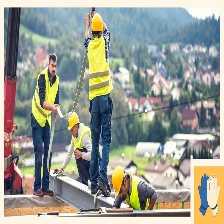helmet: (110, 166, 125, 199), (92, 13, 104, 32), (67, 113, 80, 130)
no-helmet: (47, 53, 57, 64)
person: (85, 11, 115, 199), (32, 49, 61, 198), (110, 164, 159, 210), (65, 108, 90, 182)
vest: (88, 38, 112, 100), (34, 70, 59, 126), (128, 172, 150, 211)
